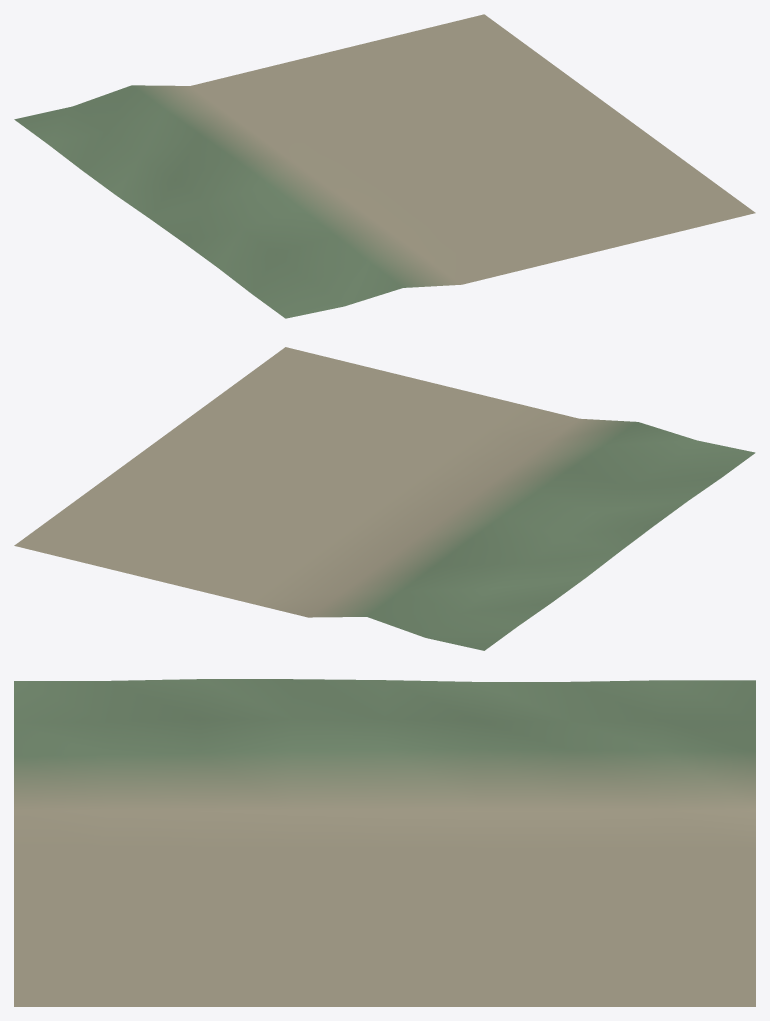
3 views of the same model, one above another, from view 1: azimuth 30°, elevation 25°; view 2: azimuth 150°, elevation 25°; view 3: azimuth 270°, elevation 25° (orthographic). The views are drawn at different scales.
Parts seen in each view (by area): view 1: Lo; view 2: Lo; view 3: Lo.
Part boxes in pixels (left/top/right/bottom): Lo: left=14, top=14, right=755, bottom=318; Lo: left=14, top=347, right=755, bottom=650; Lo: left=14, top=679, right=755, bottom=1006.
Bounding box in the file's own units: 256 × 8.63 × 256.
